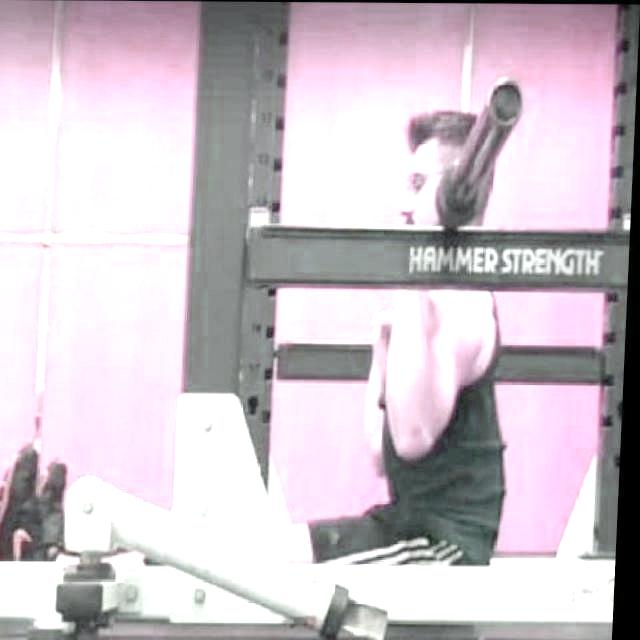barbell: (437, 68, 534, 227)
